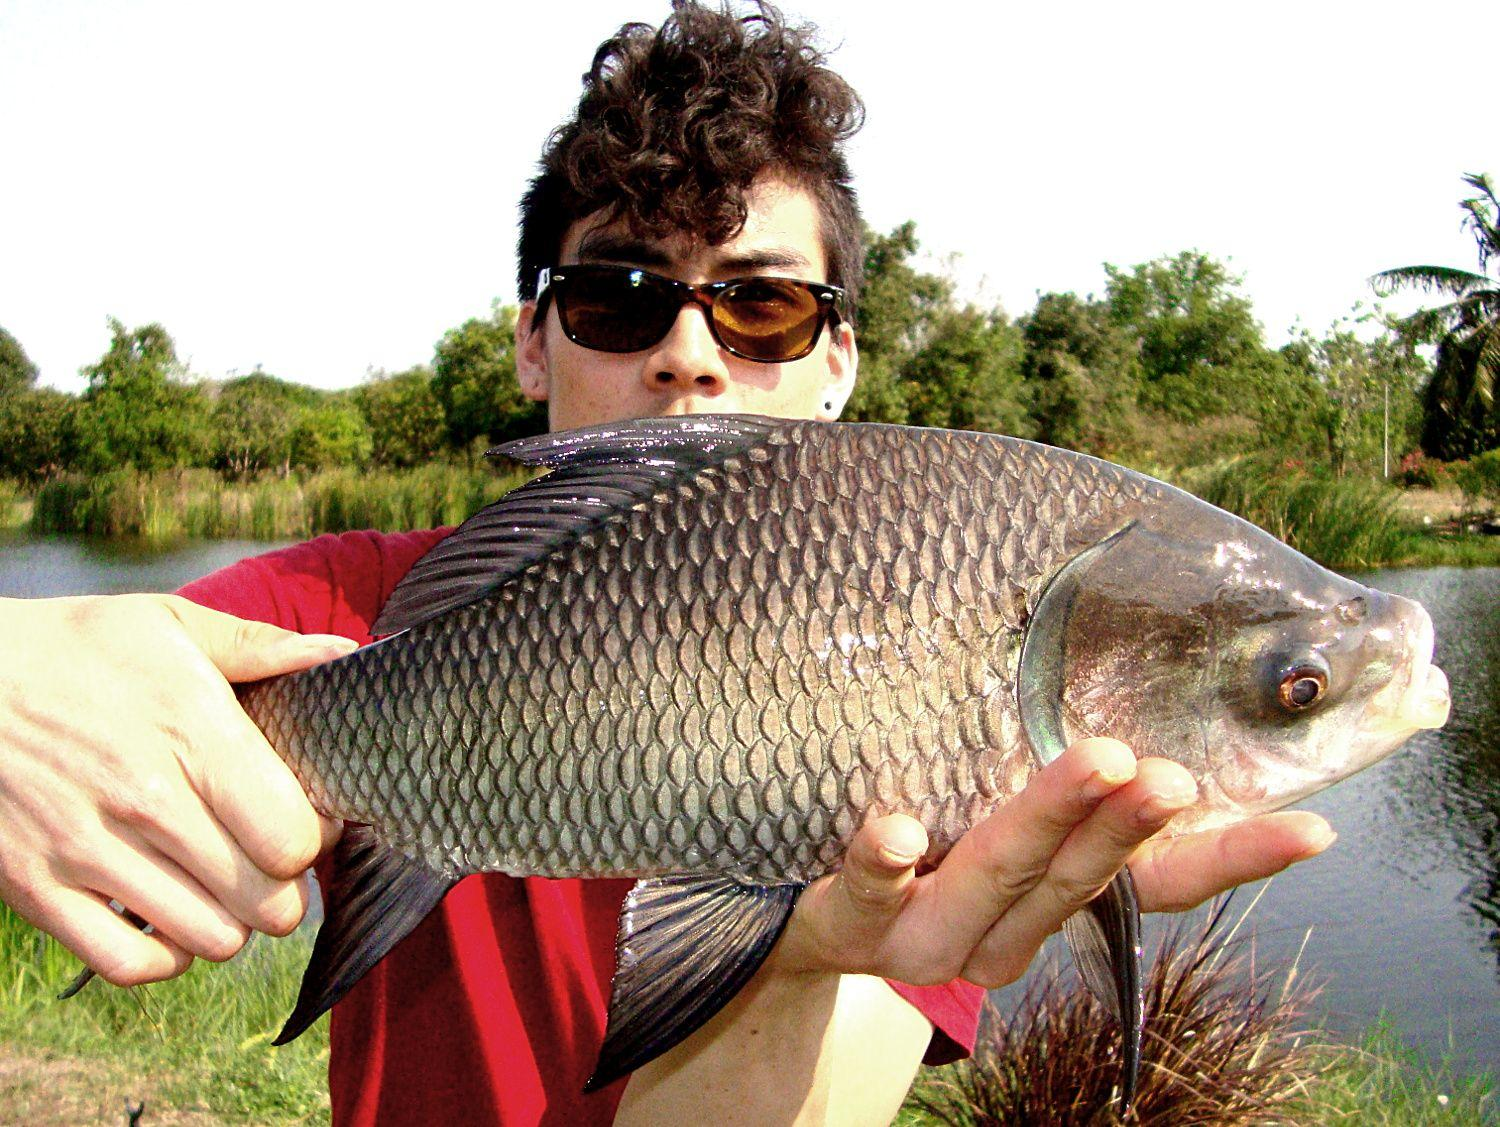Indian Carp: (5, 407, 1457, 1103)
